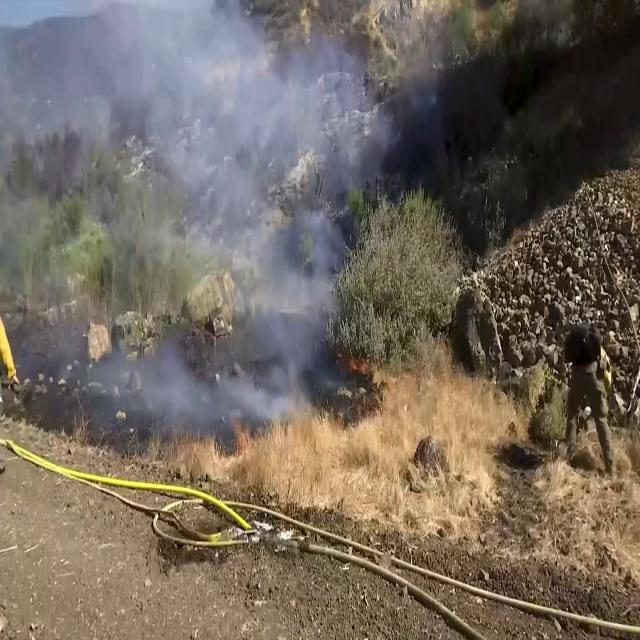Smoke: (85, 2, 379, 446)
